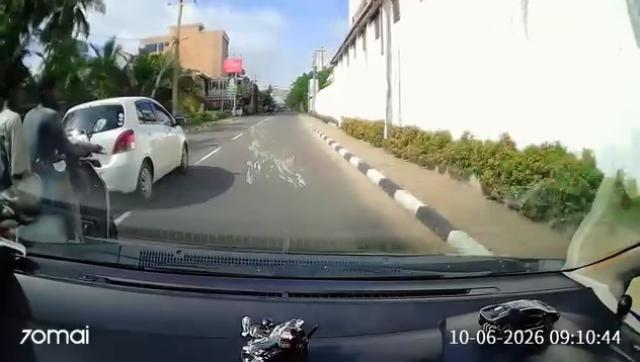no helmet: (4, 73, 27, 117), (41, 76, 66, 111)
